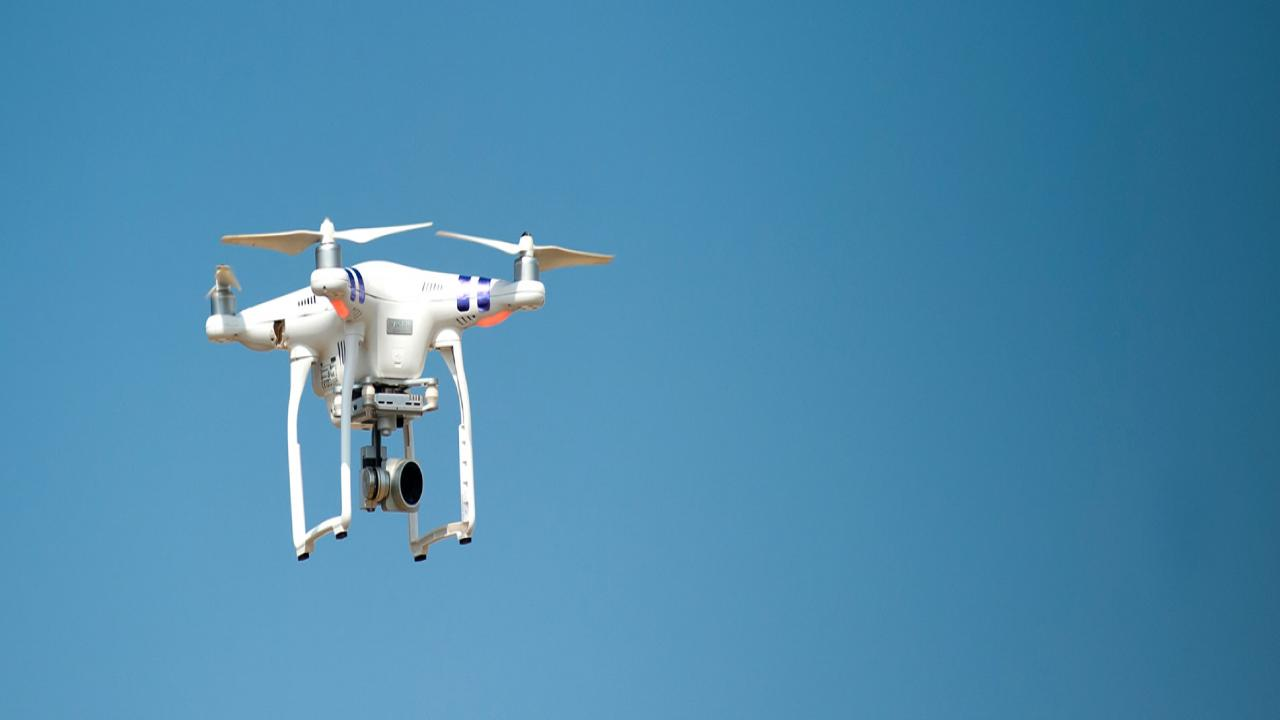Drone: (194, 200, 619, 576)
